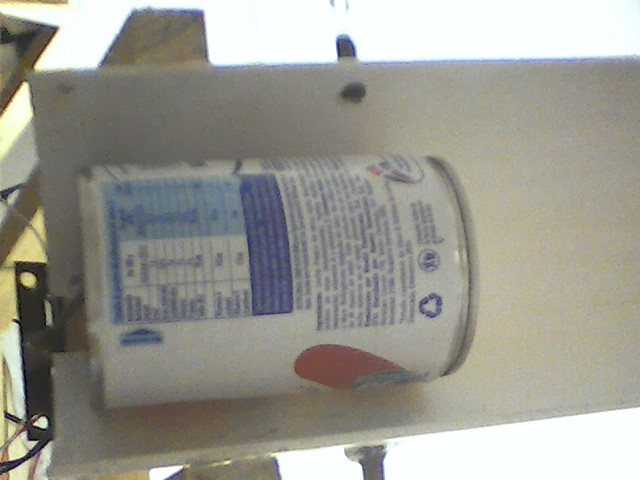lata: (69, 153, 484, 410)
